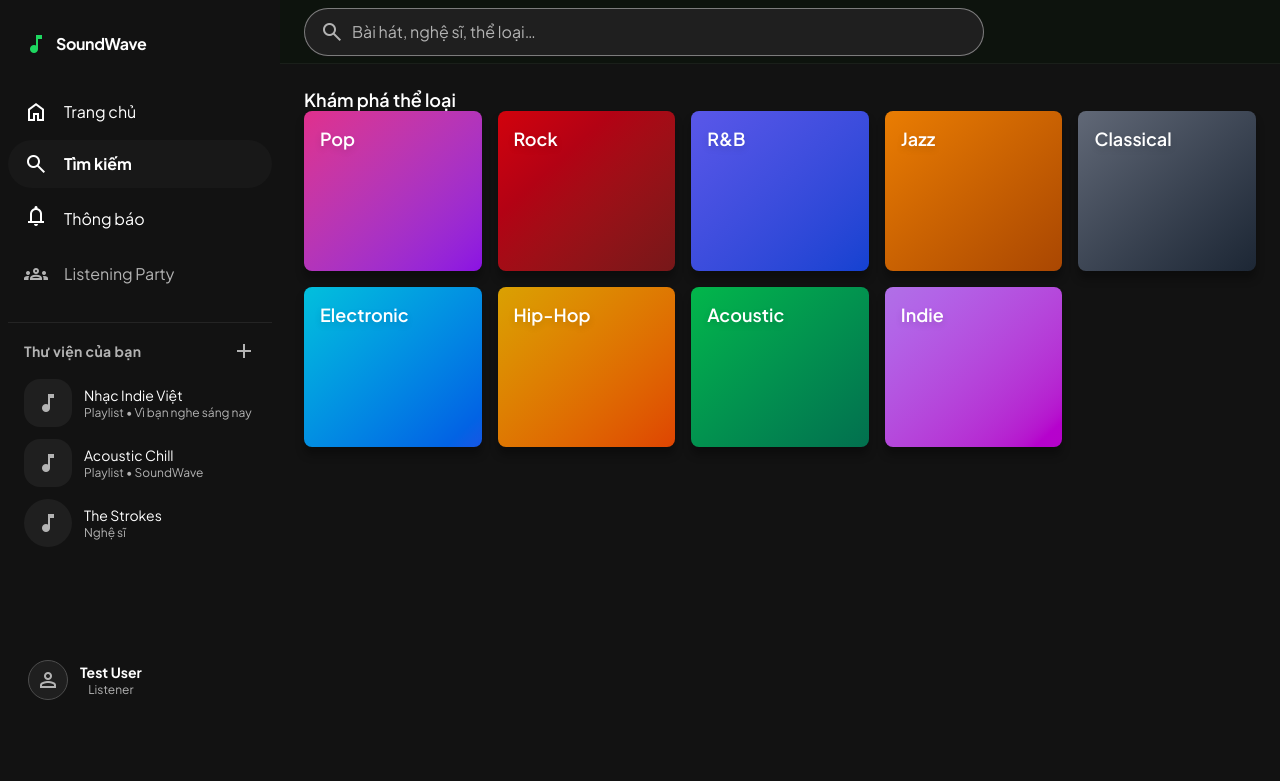
SearchPage — filter tabs › shows filter tabs when results are present
This screenshot has width=1280, height=781.
In the field named "tìm kiếm": x=644, y=32 [304,8,984,56], type "sơn tùng"
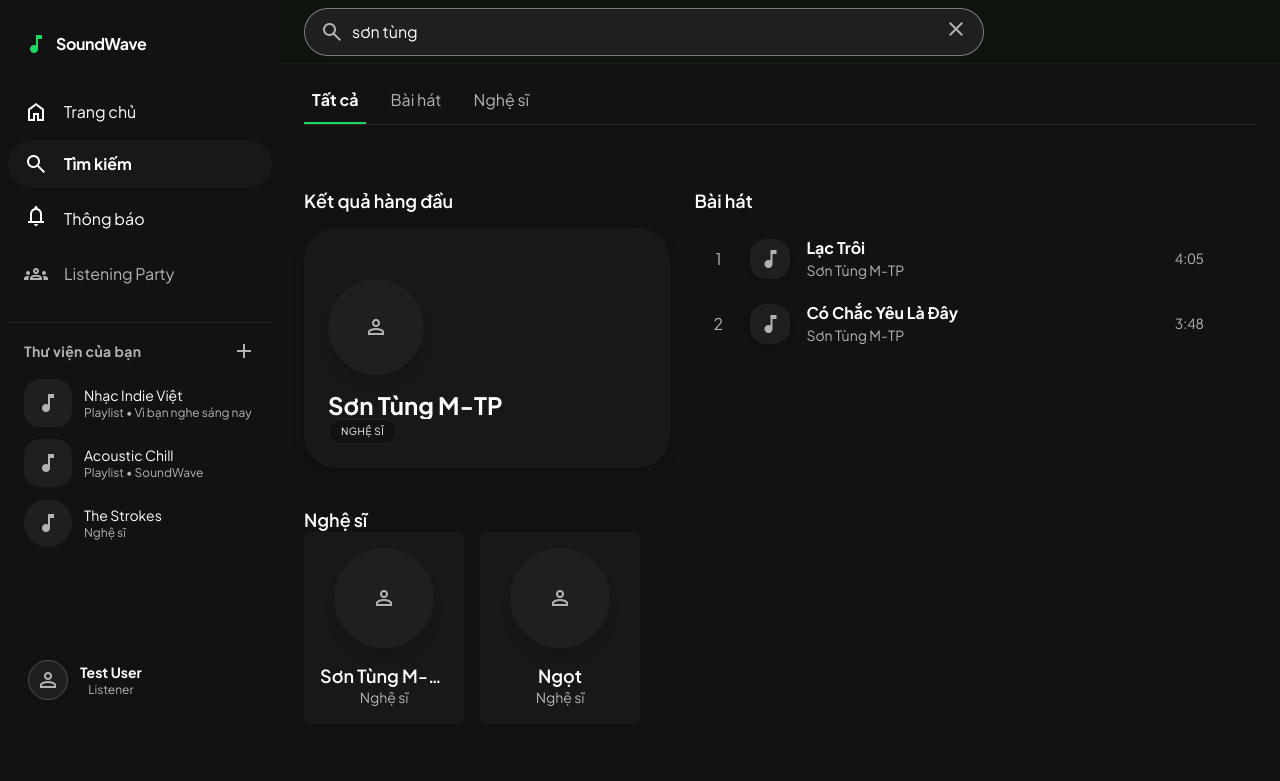
Expected: the element named "Lọc kết quả tìm kiếm" is shown, [304,88,1256,125]
Expected: the tab with test id "filter-tab-all" is shown, [304,88,366,124]
Expected: the tab with test id "filter-tab-songs" is shown, [382,88,449,124]
